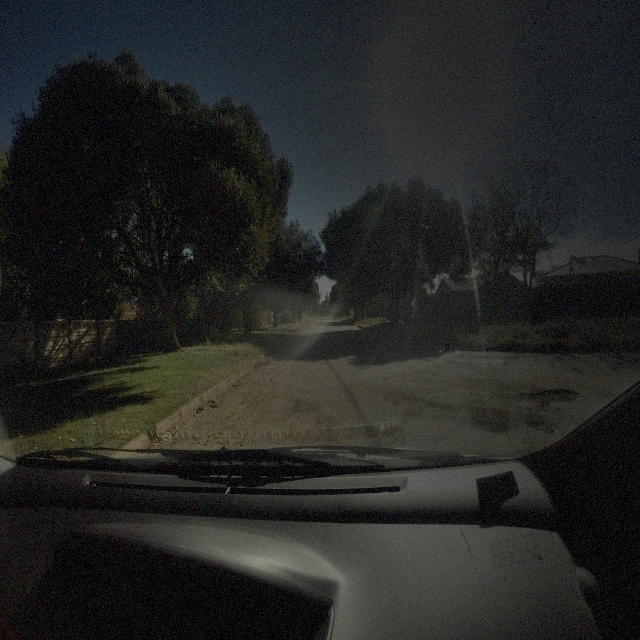pothole: (512, 386, 581, 408)
